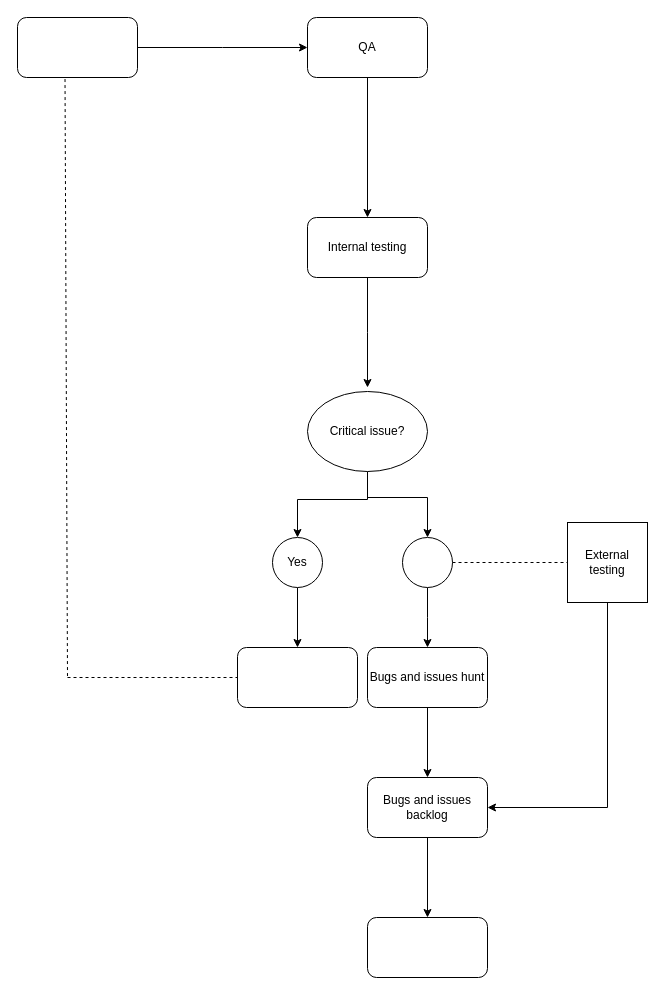
Image size: 665x995. Some labels were removed from this diagram. The shapes that lost their labels are listed below. From the top down, each one's centre as x and y in pixels, then its label:
At point 77,47: "New build".
At point 427,562: "No".
At point 297,677: "report to the Code of the issue".
At point 427,947: "Dev. Team".
